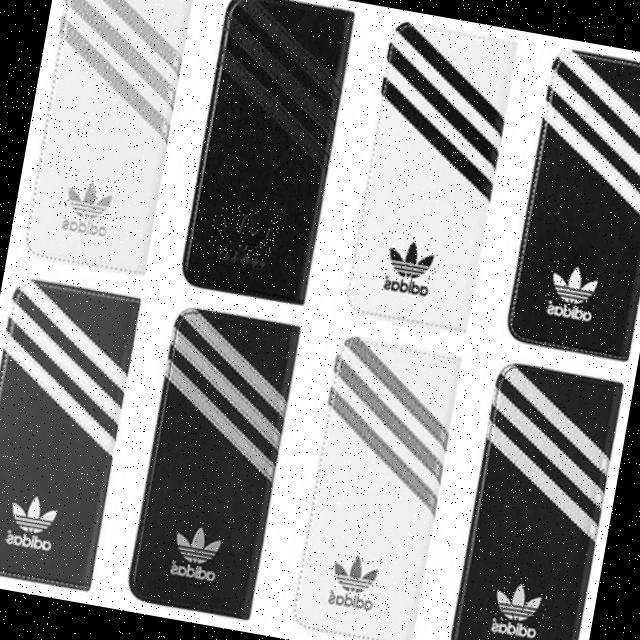Adidas: (206, 202, 282, 263), (484, 570, 552, 630), (542, 256, 608, 314), (379, 230, 446, 287), (55, 172, 122, 228), (169, 516, 229, 572), (3, 488, 64, 543), (326, 550, 384, 602)
